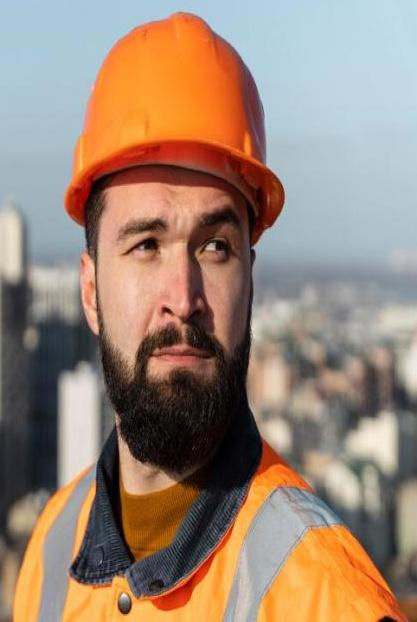hat: (41, 1, 338, 253)
vest: (3, 378, 417, 622)
